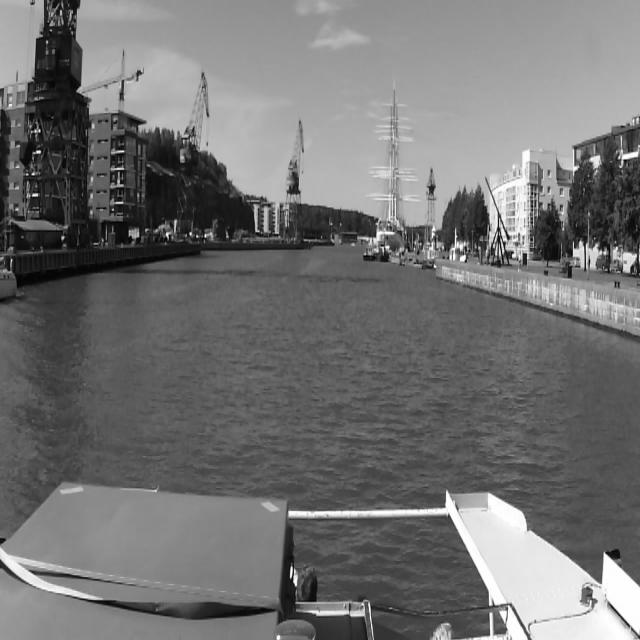ship: (376, 78, 406, 246), (370, 239, 386, 263)
